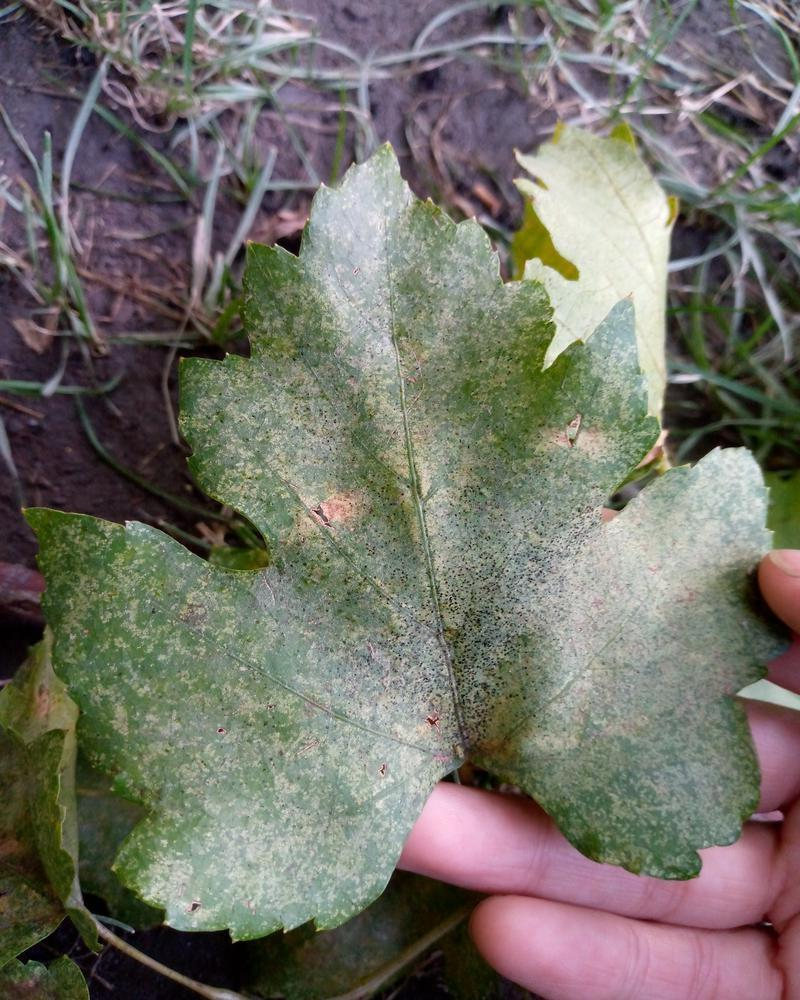Powdery-Mildew: (151, 607, 479, 929), (245, 157, 500, 543), (519, 450, 788, 798), (175, 578, 358, 727), (525, 308, 646, 476), (594, 757, 759, 865), (53, 557, 166, 681), (128, 707, 226, 823), (514, 515, 577, 578)
